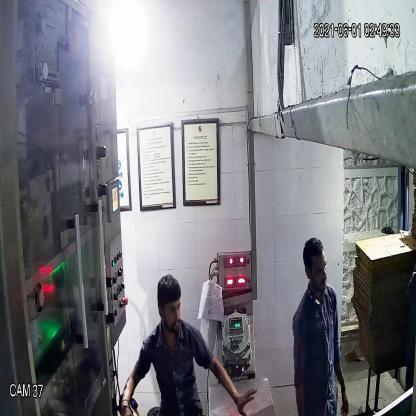no_goggles: (152, 295, 186, 319), (302, 257, 333, 281)
